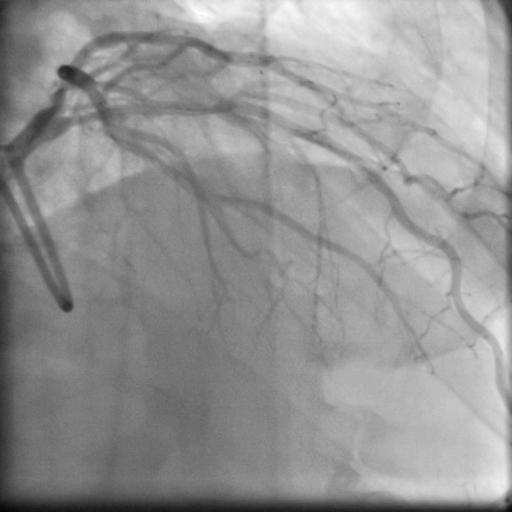Stenosis: (133, 95, 212, 113)
